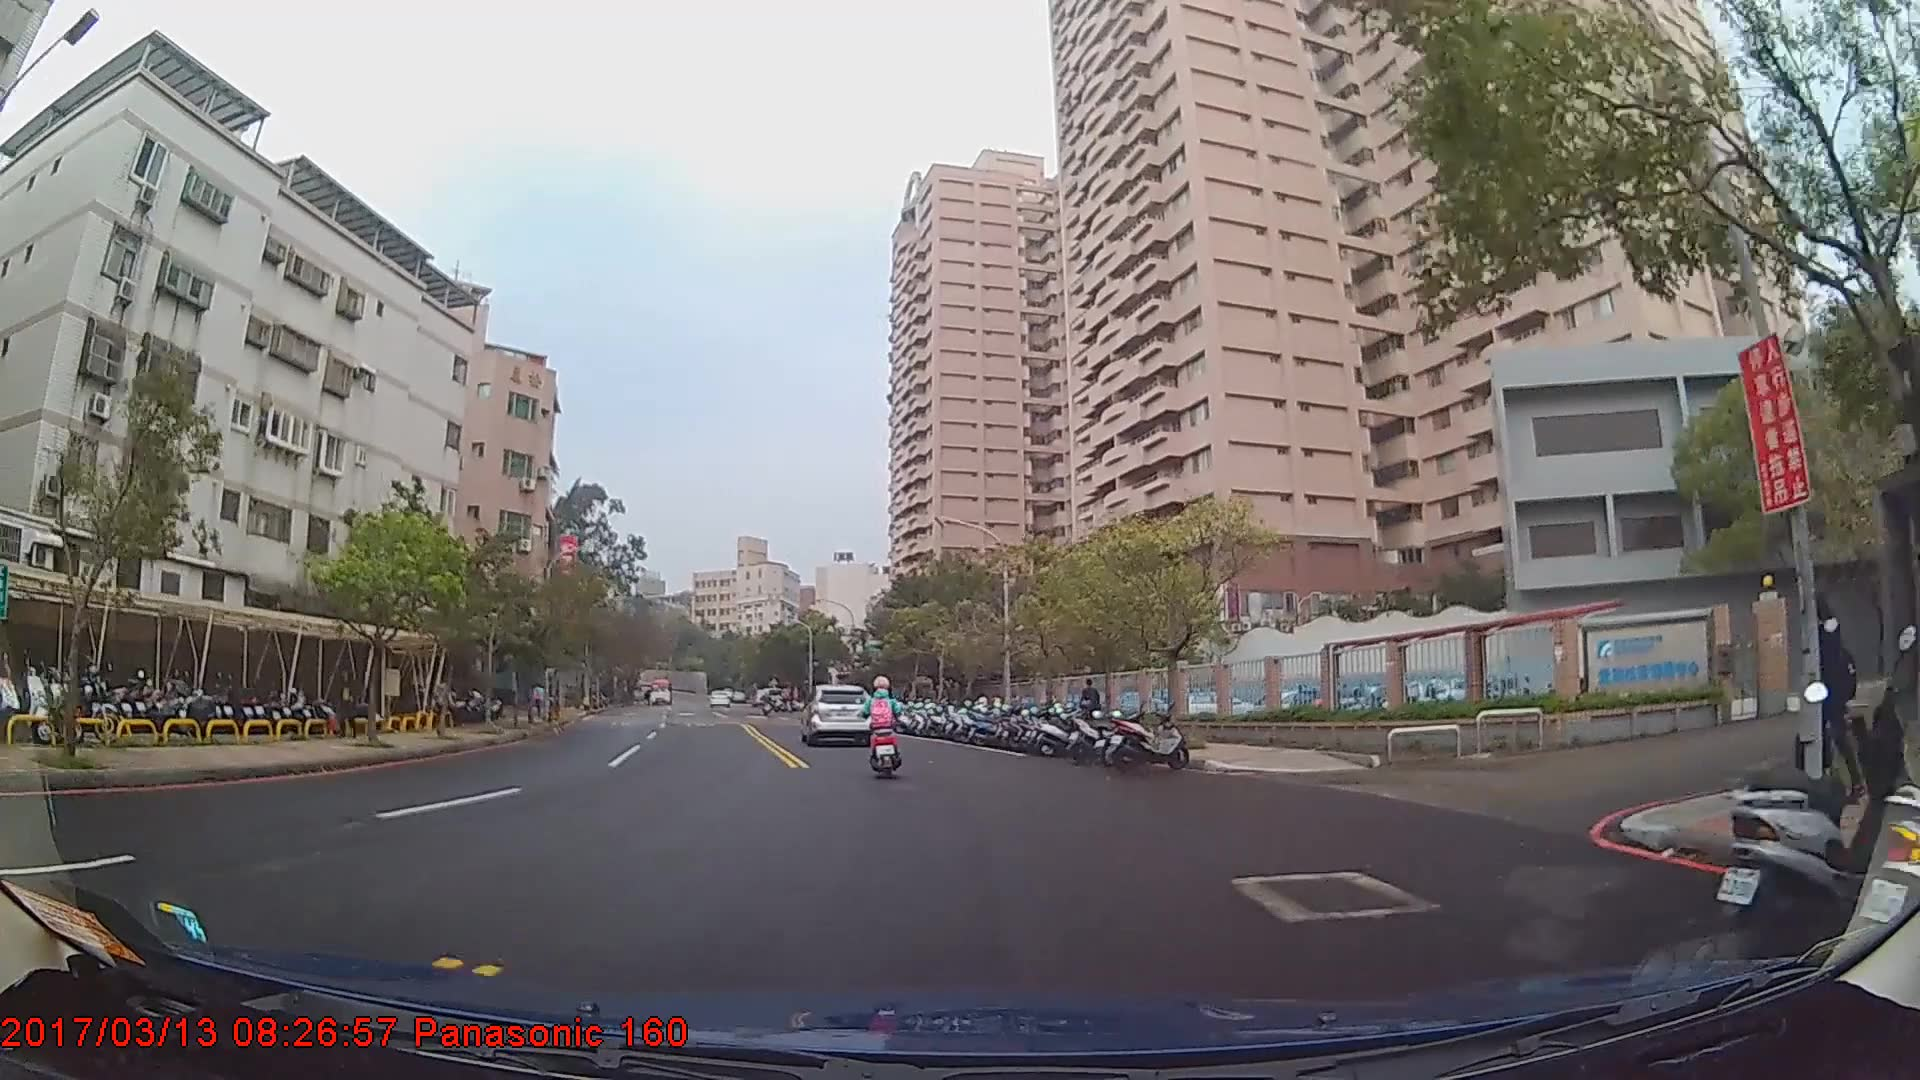pedestrian: (1782, 580, 1858, 818), (335, 663, 361, 738), (1082, 678, 1102, 736)
rider: (861, 673, 903, 768)
vehicle: (801, 682, 877, 746), (644, 675, 672, 705)
